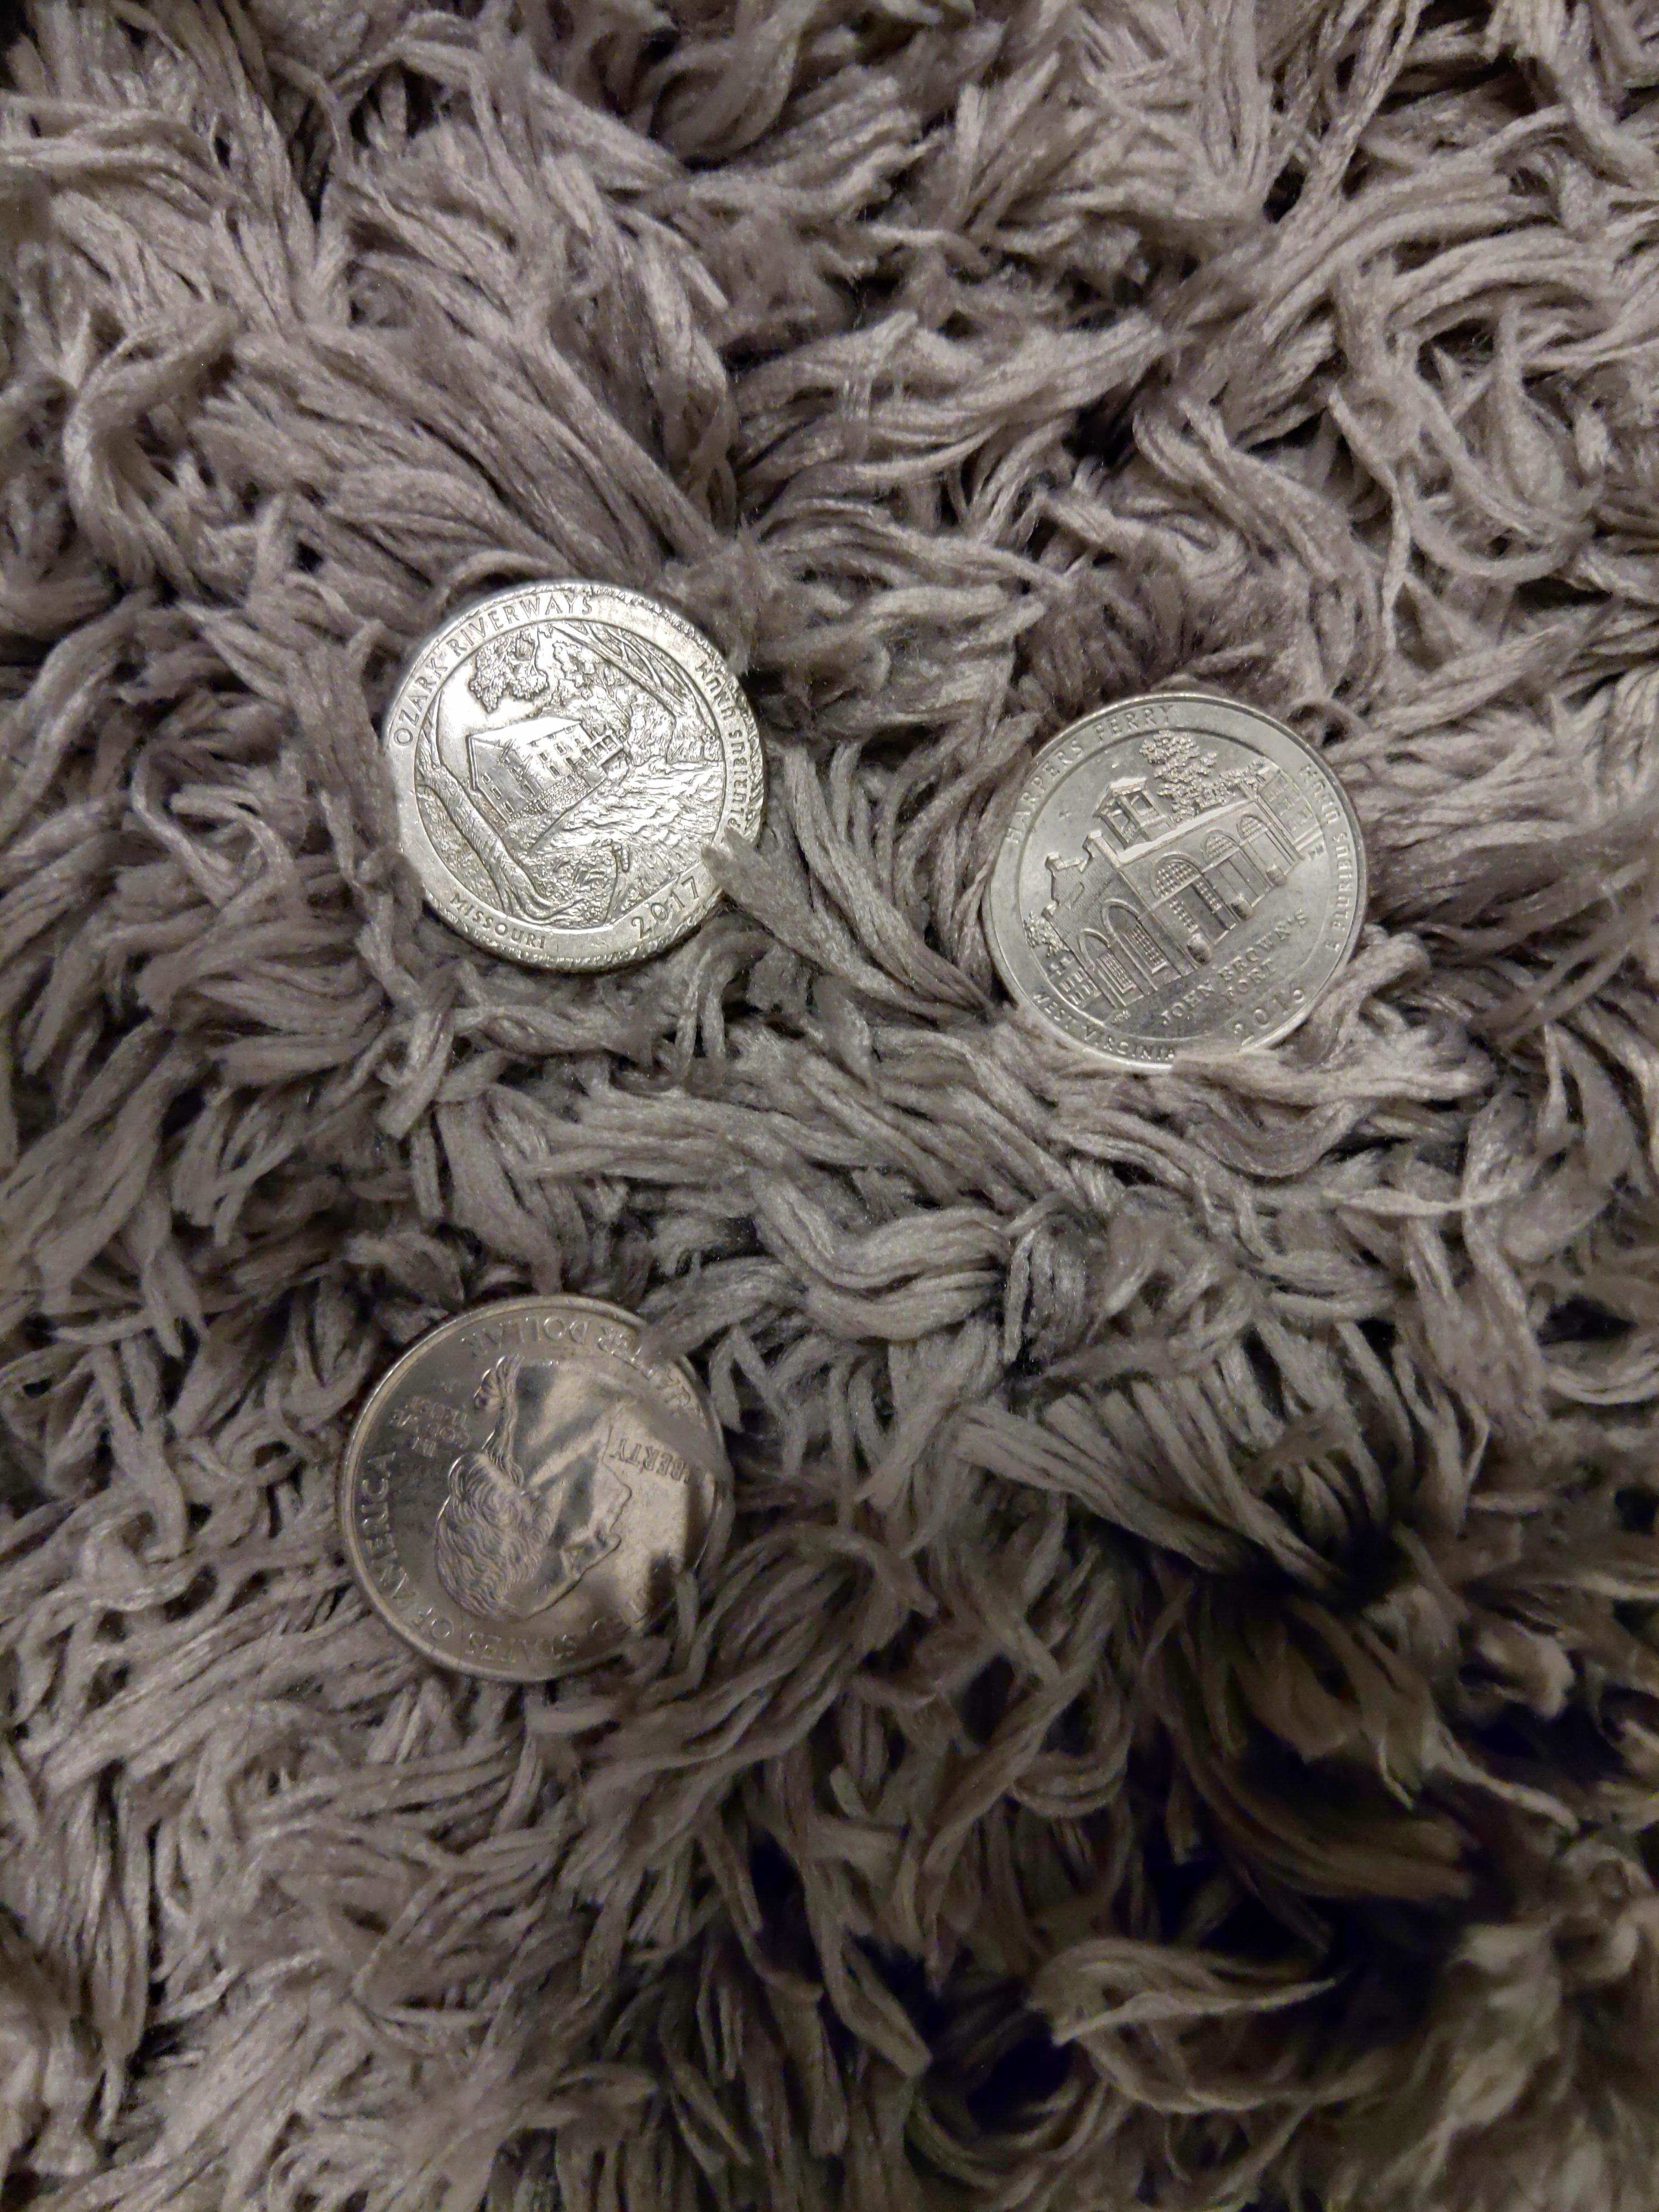Quarter: (373, 575, 774, 979), (335, 1287, 732, 1689), (978, 686, 1370, 1073)
